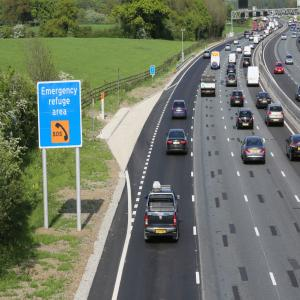Vehicle-registration-plate: (157, 230, 167, 234), (174, 142, 181, 147), (177, 109, 183, 114), (252, 150, 259, 154), (236, 103, 241, 105), (245, 125, 250, 127), (263, 102, 268, 104), (275, 120, 280, 122), (299, 149, 300, 152)
